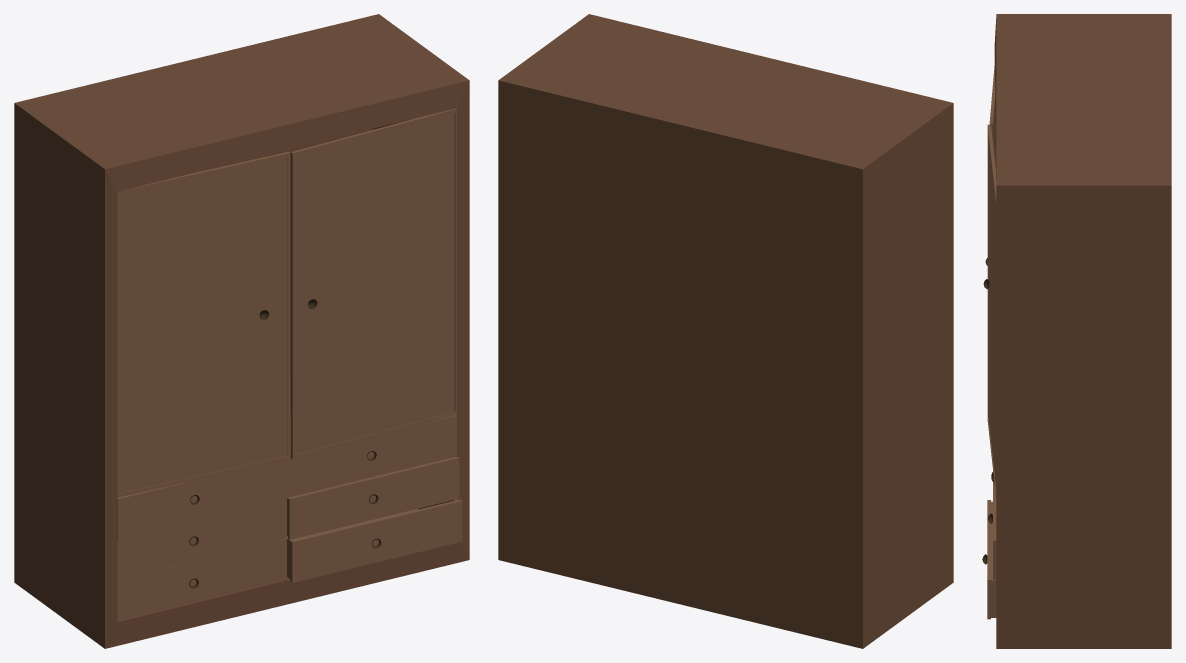
The model's file is Armario.fbx.
3 views of the same model, side by side, from view 1: azimuth 30°, elevation 25°; view 2: azimuth 150°, elevation 25°; view 3: azimuth 270°, elevation 25° (orthographic). The views are drawn at different scales.
Visible parts, largest first — view 1: Armario; view 2: Armario; view 3: Armario.
Boxes of the visible parts, left/top/right/bottom form: Armario: left=14, top=14, right=469, bottom=648; Armario: left=498, top=14, right=953, bottom=648; Armario: left=982, top=14, right=1171, bottom=648.
Bounding box in the file's own units: 137 × 172 × 63.57.
